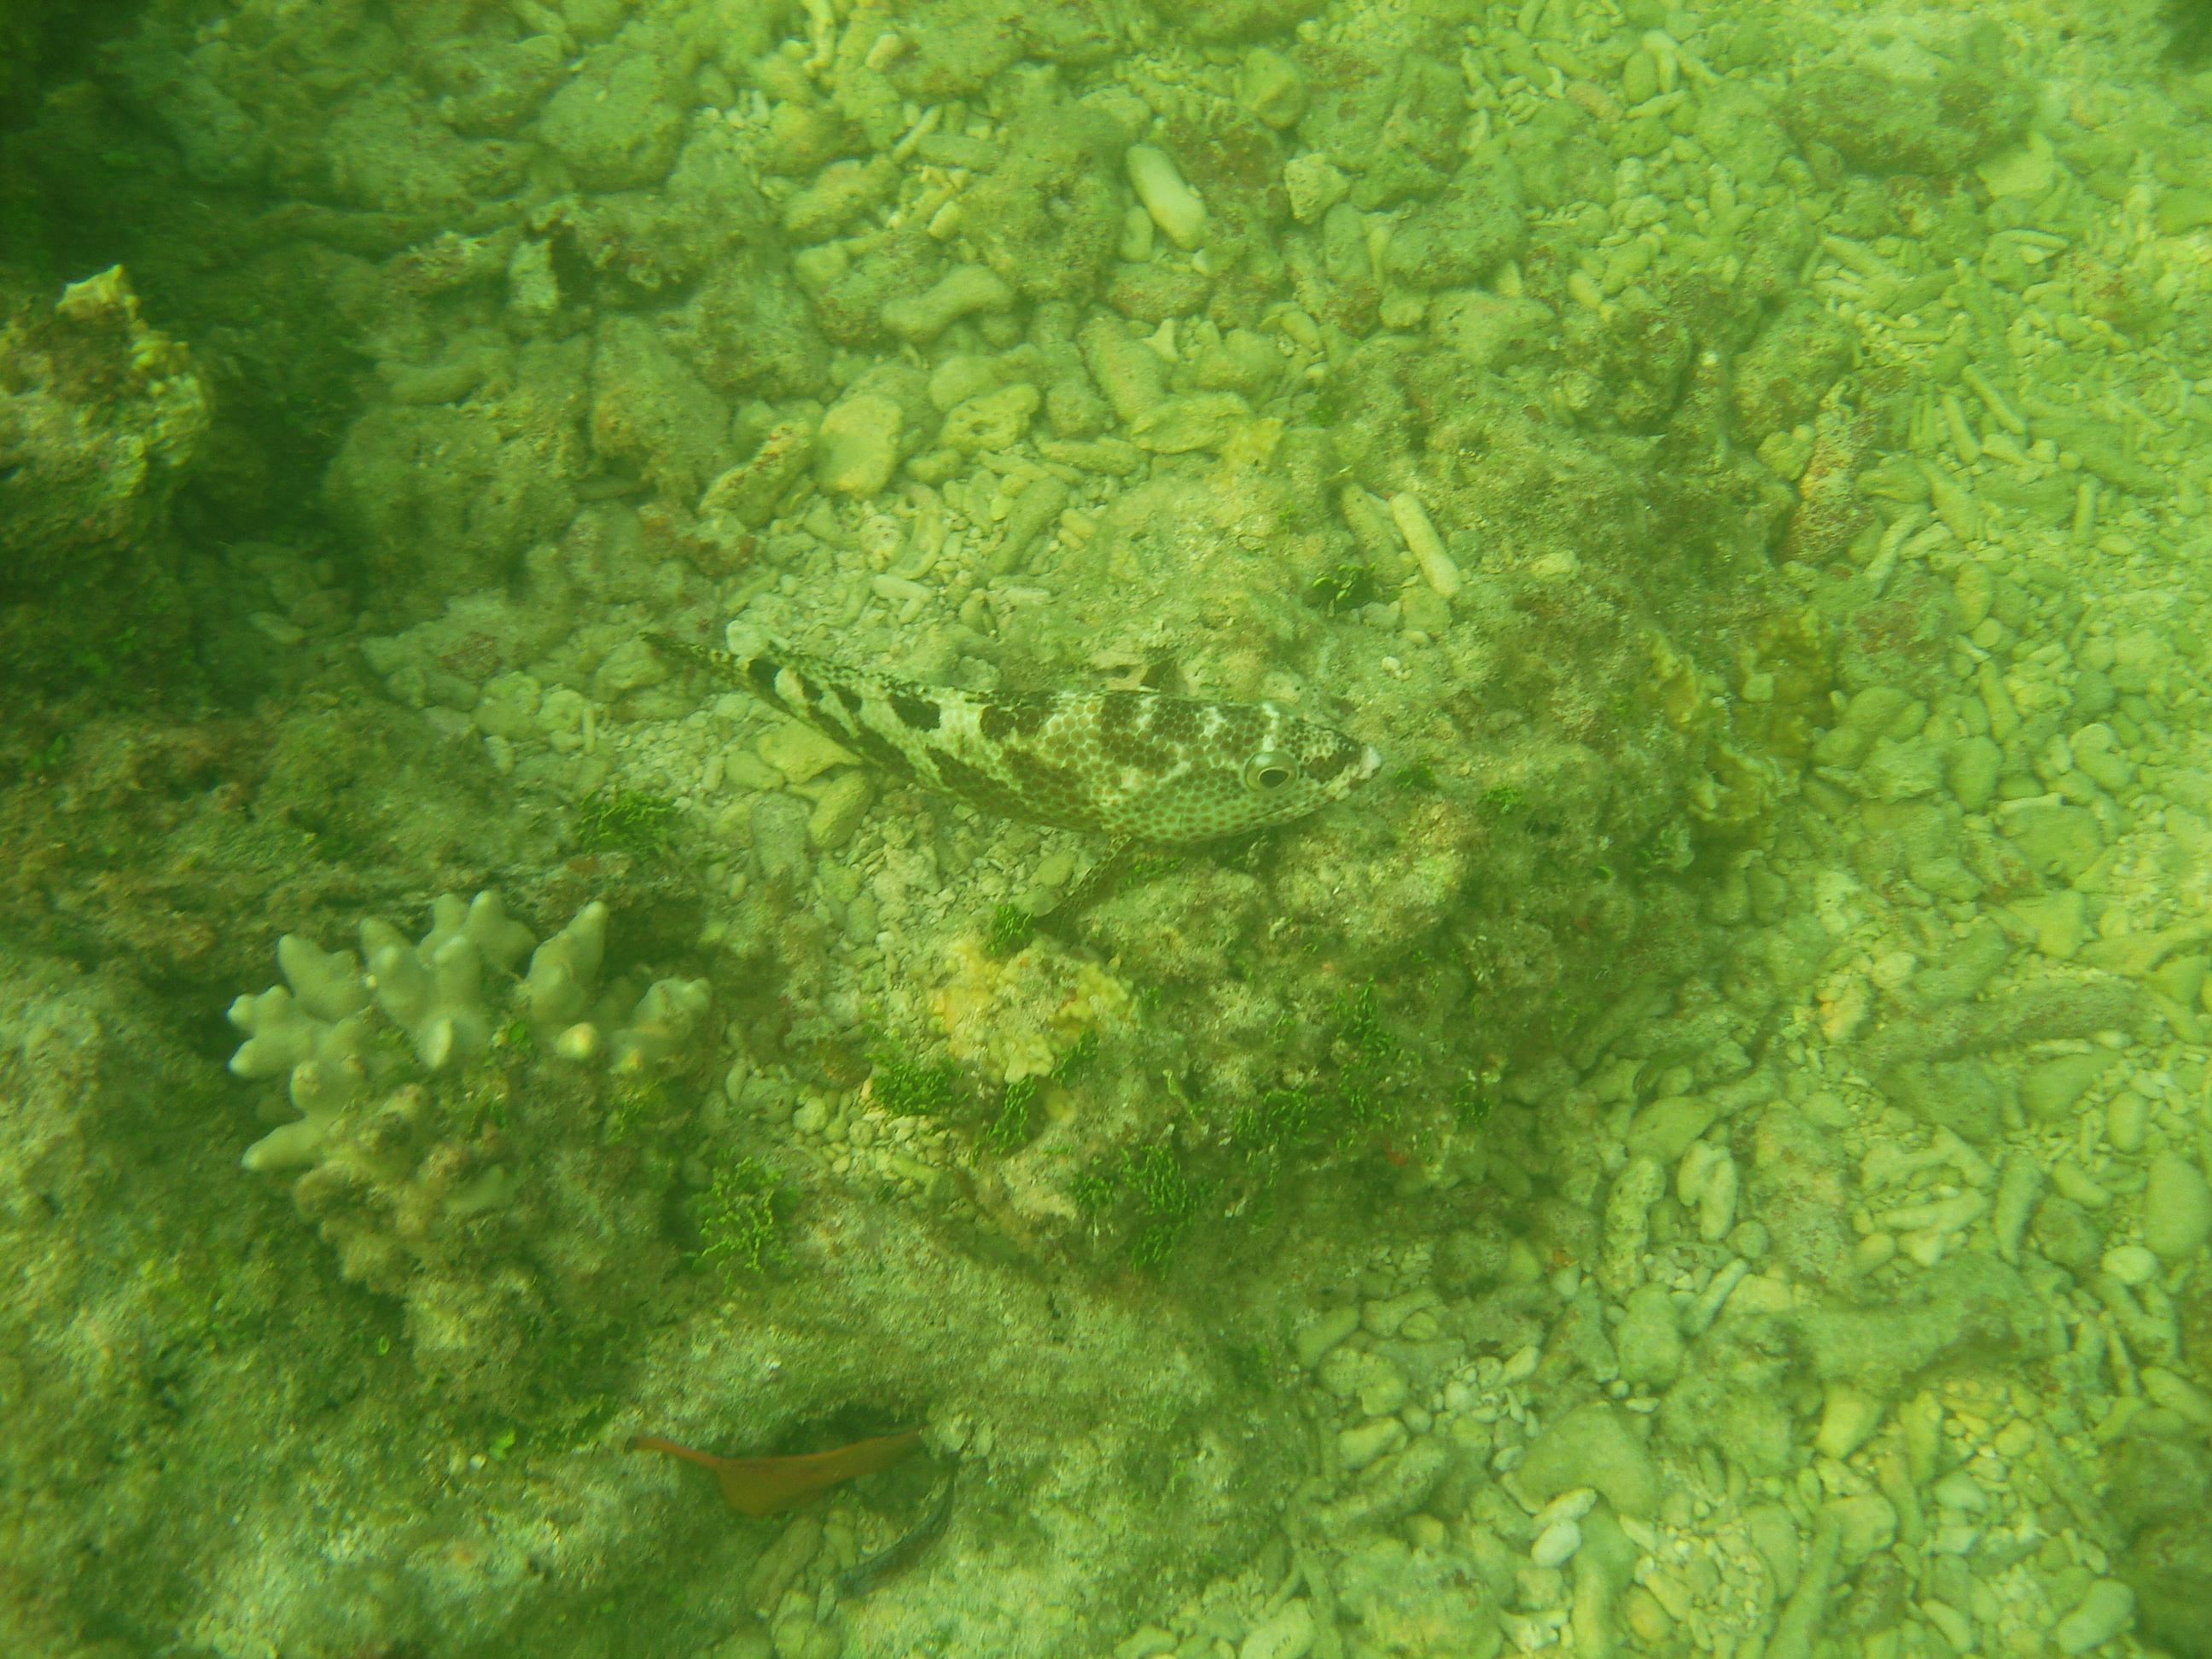Fish: (597, 532, 1456, 934)
